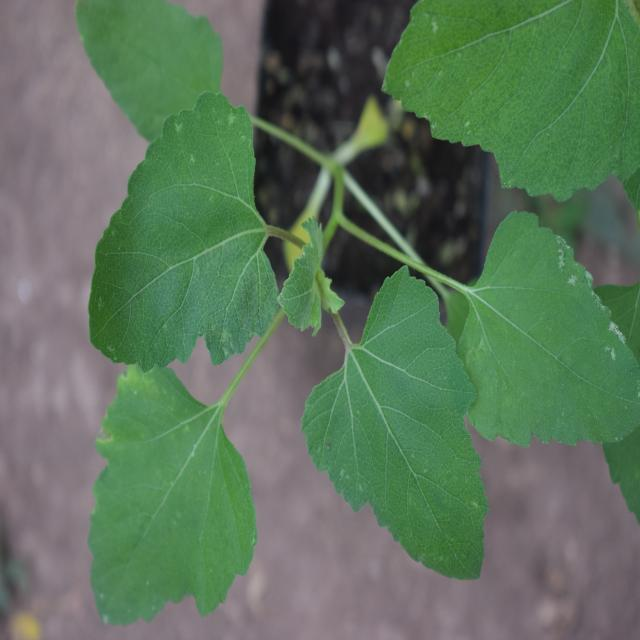cocklebur: (71, 93, 610, 612)
